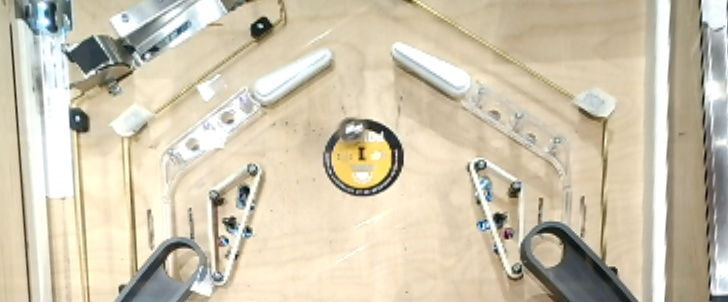ball: (339, 117, 367, 146)
flipper-left: (388, 41, 473, 103)
flipper-right: (252, 46, 335, 106)
